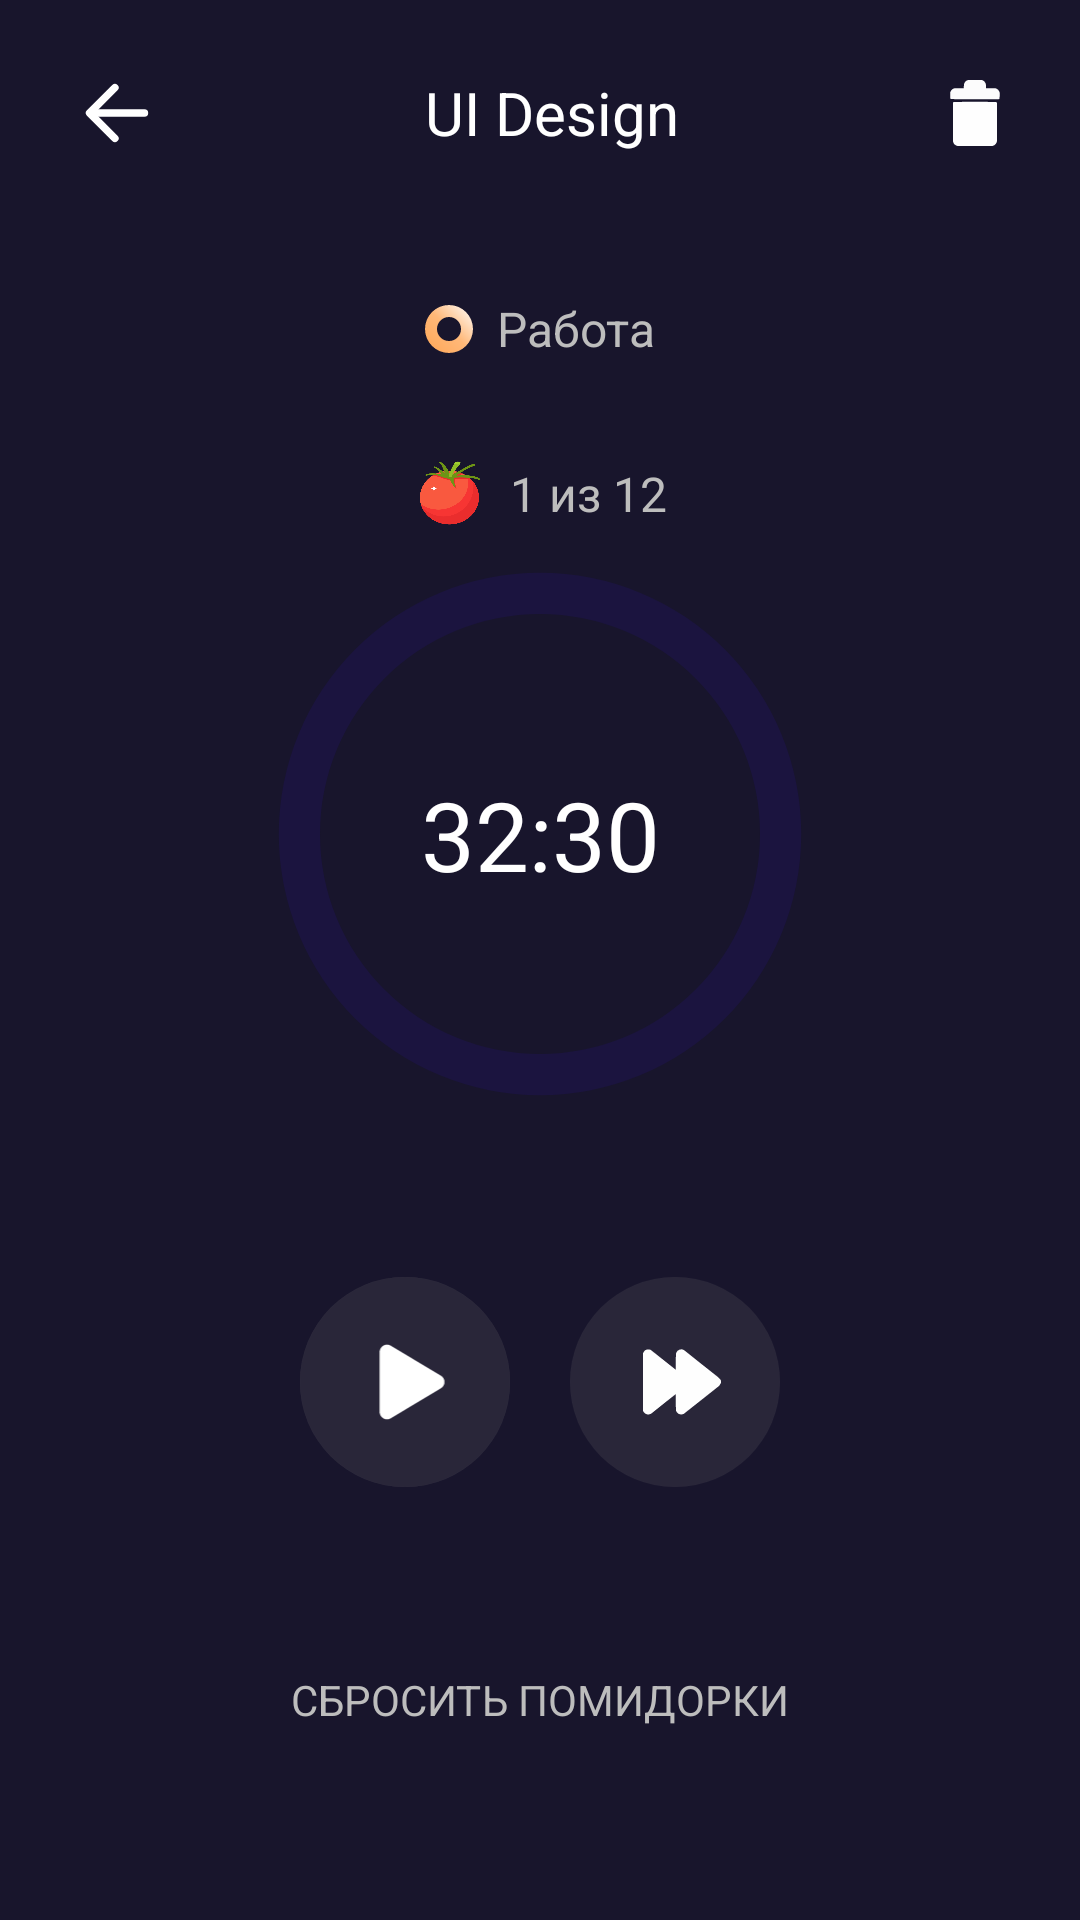

Named icons in this screenshot (1080x1920) and their bounding boxes, (x1, y1, x2, y2):
arrow back: (85, 83, 149, 143)
im tomato: (420, 461, 480, 525)
shape work ring: (425, 305, 473, 353)
skip: (643, 1349, 721, 1415)
trash: (950, 80, 1000, 146)
